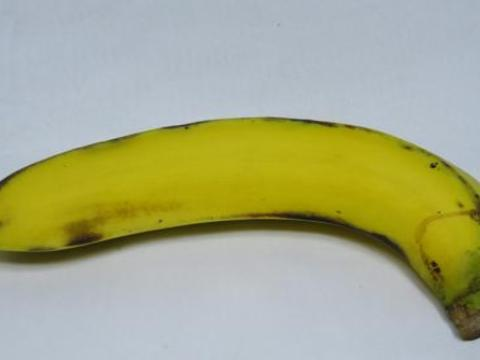freshripe: (0, 106, 479, 349)
